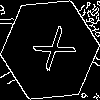X: (25, 25, 77, 78)
